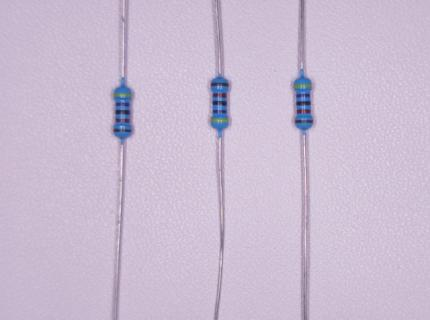Black band: (116, 110, 130, 115), (213, 101, 227, 106), (296, 101, 311, 105)
Brown band: (211, 82, 228, 87), (114, 129, 132, 132), (295, 120, 313, 123)
Red band: (116, 118, 130, 123), (213, 93, 227, 98), (297, 109, 311, 114)
Violet band: (116, 103, 130, 107), (296, 93, 310, 97), (212, 110, 227, 113)
Yellow band: (294, 84, 312, 88), (114, 93, 131, 97), (211, 119, 228, 122)
